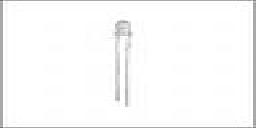LED: (111, 19, 133, 108)
